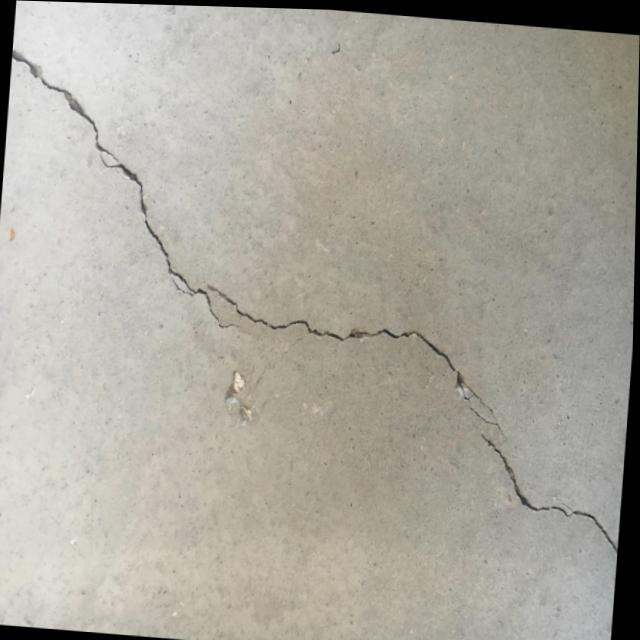Crack: (0, 45, 243, 321), (202, 284, 514, 428), (471, 425, 628, 554)
